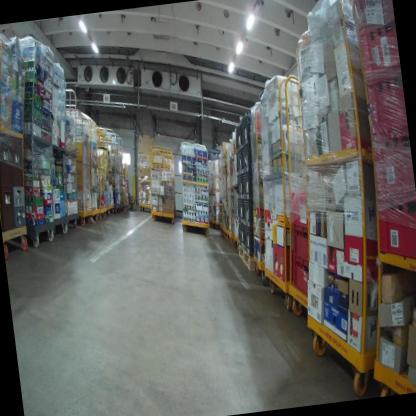pallet: (235, 240, 263, 280)
small_load_carrier: (364, 131, 416, 223), (365, 181, 416, 271), (360, 64, 408, 147), (353, 12, 400, 83), (285, 249, 320, 302), (289, 219, 317, 270), (287, 188, 318, 229), (354, 0, 394, 26)
